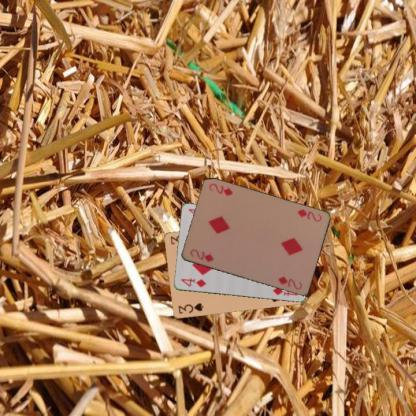2d: (187, 246, 215, 264), (294, 206, 322, 223)
3s: (176, 300, 204, 316)
4d: (178, 275, 207, 289)
